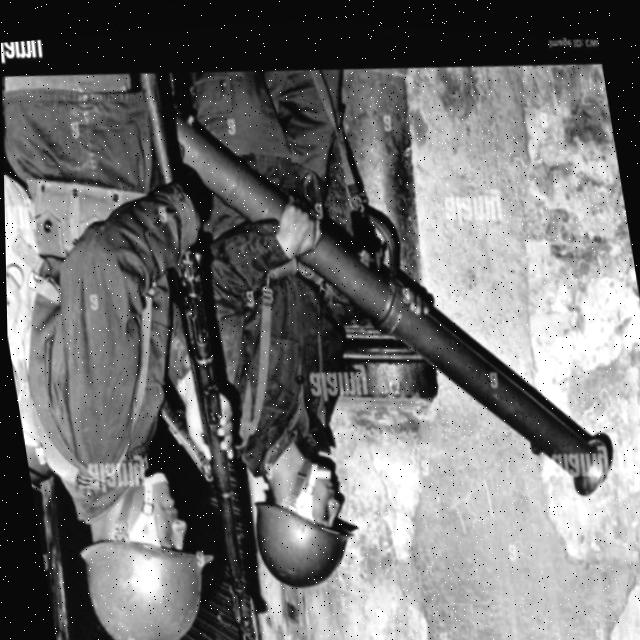rocket: (156, 51, 629, 549)
